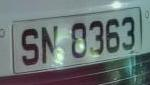3: (88, 16, 108, 59), (120, 12, 137, 56)
6: (104, 15, 122, 57)
8: (68, 17, 90, 63)
N: (39, 25, 62, 67)
S: (18, 26, 42, 66)
